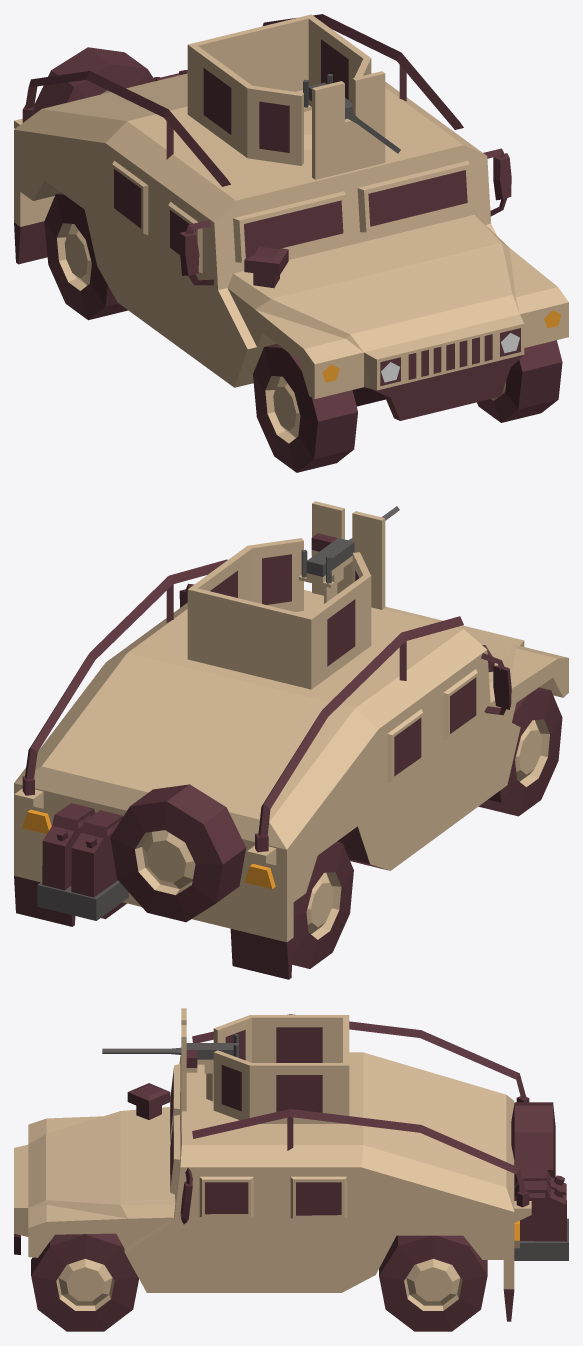
The model's file is SM_Car_Military_A.fbx.
3 renders of one model, top to bottom at view 1: azimuth 30°, elevation 25°; view 2: azimuth 150°, elevation 25°; view 3: azimuth 270°, elevation 25°, orthographic. The views are drawn at different scales.
Parts seen in each view (by area): view 1: SM_Car_Military_A_Base, SM_Car_Military_A_Wheel_FR, SM_Car_Military_A_Wheel_BR, SM_Car_Military_A_Wheel_FL; view 2: SM_Car_Military_A_Base, SM_Car_Military_A_Wheel_FR, SM_Car_Military_A_Wheel_BR; view 3: SM_Car_Military_A_Base, SM_Car_Military_A_Wheel_BL, SM_Car_Military_A_Wheel_FL.
Part boxes in pixels (x1=…): SM_Car_Military_A_Base: x1=14, y1=14, x2=568, y2=420; SM_Car_Military_A_Wheel_FR: x1=253, y1=344, x2=357, y2=472; SM_Car_Military_A_Wheel_BR: x1=44, y1=193, x2=127, y2=320; SM_Car_Military_A_Wheel_FL: x1=477, y1=340, x2=562, y2=422; SM_Car_Military_A_Base: x1=14, y1=501, x2=568, y2=979; SM_Car_Military_A_Wheel_FR: x1=479, y1=687, x2=562, y2=816; SM_Car_Military_A_Wheel_BR: x1=292, y1=841, x2=353, y2=968; SM_Car_Military_A_Base: x1=14, y1=1008, x2=568, y2=1321; SM_Car_Military_A_Wheel_BL: x1=379, y1=1235, x2=487, y2=1331; SM_Car_Military_A_Wheel_FL: x1=31, y1=1233, x2=138, y2=1331.
Bounding box in the file's own units: 2.97 × 2.69 × 5.21.
